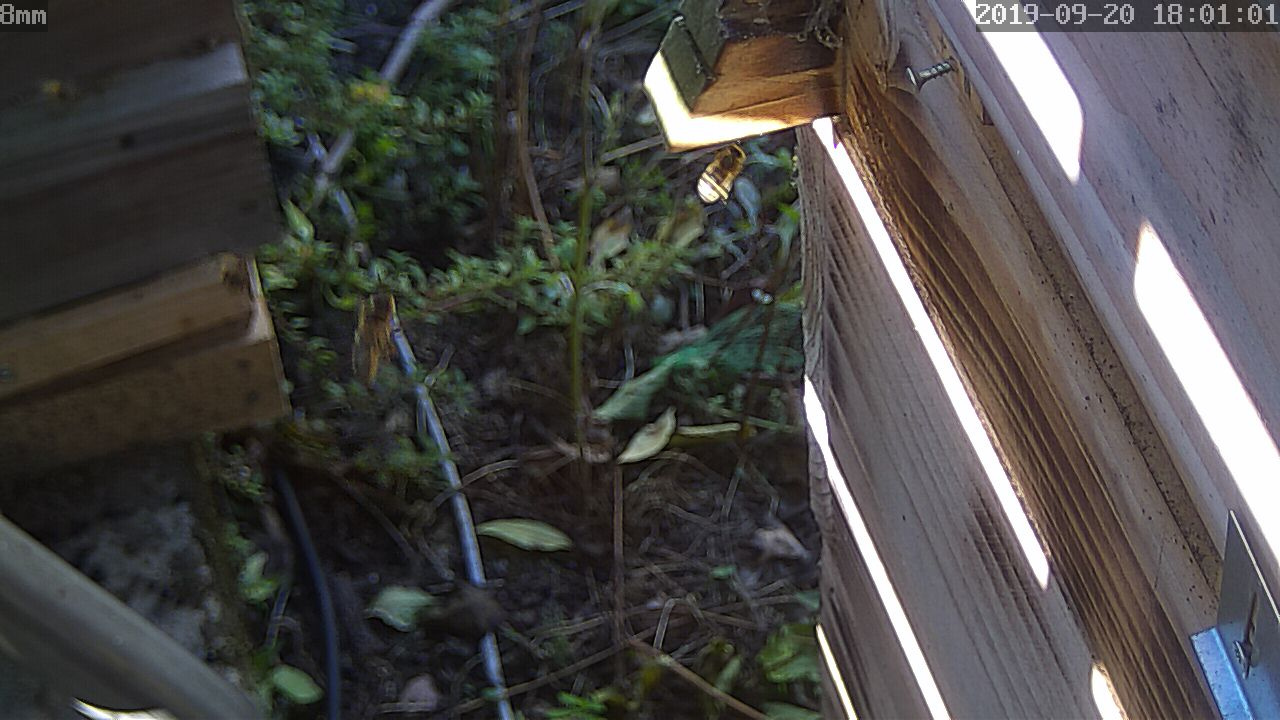bee: (699, 137, 752, 209)
